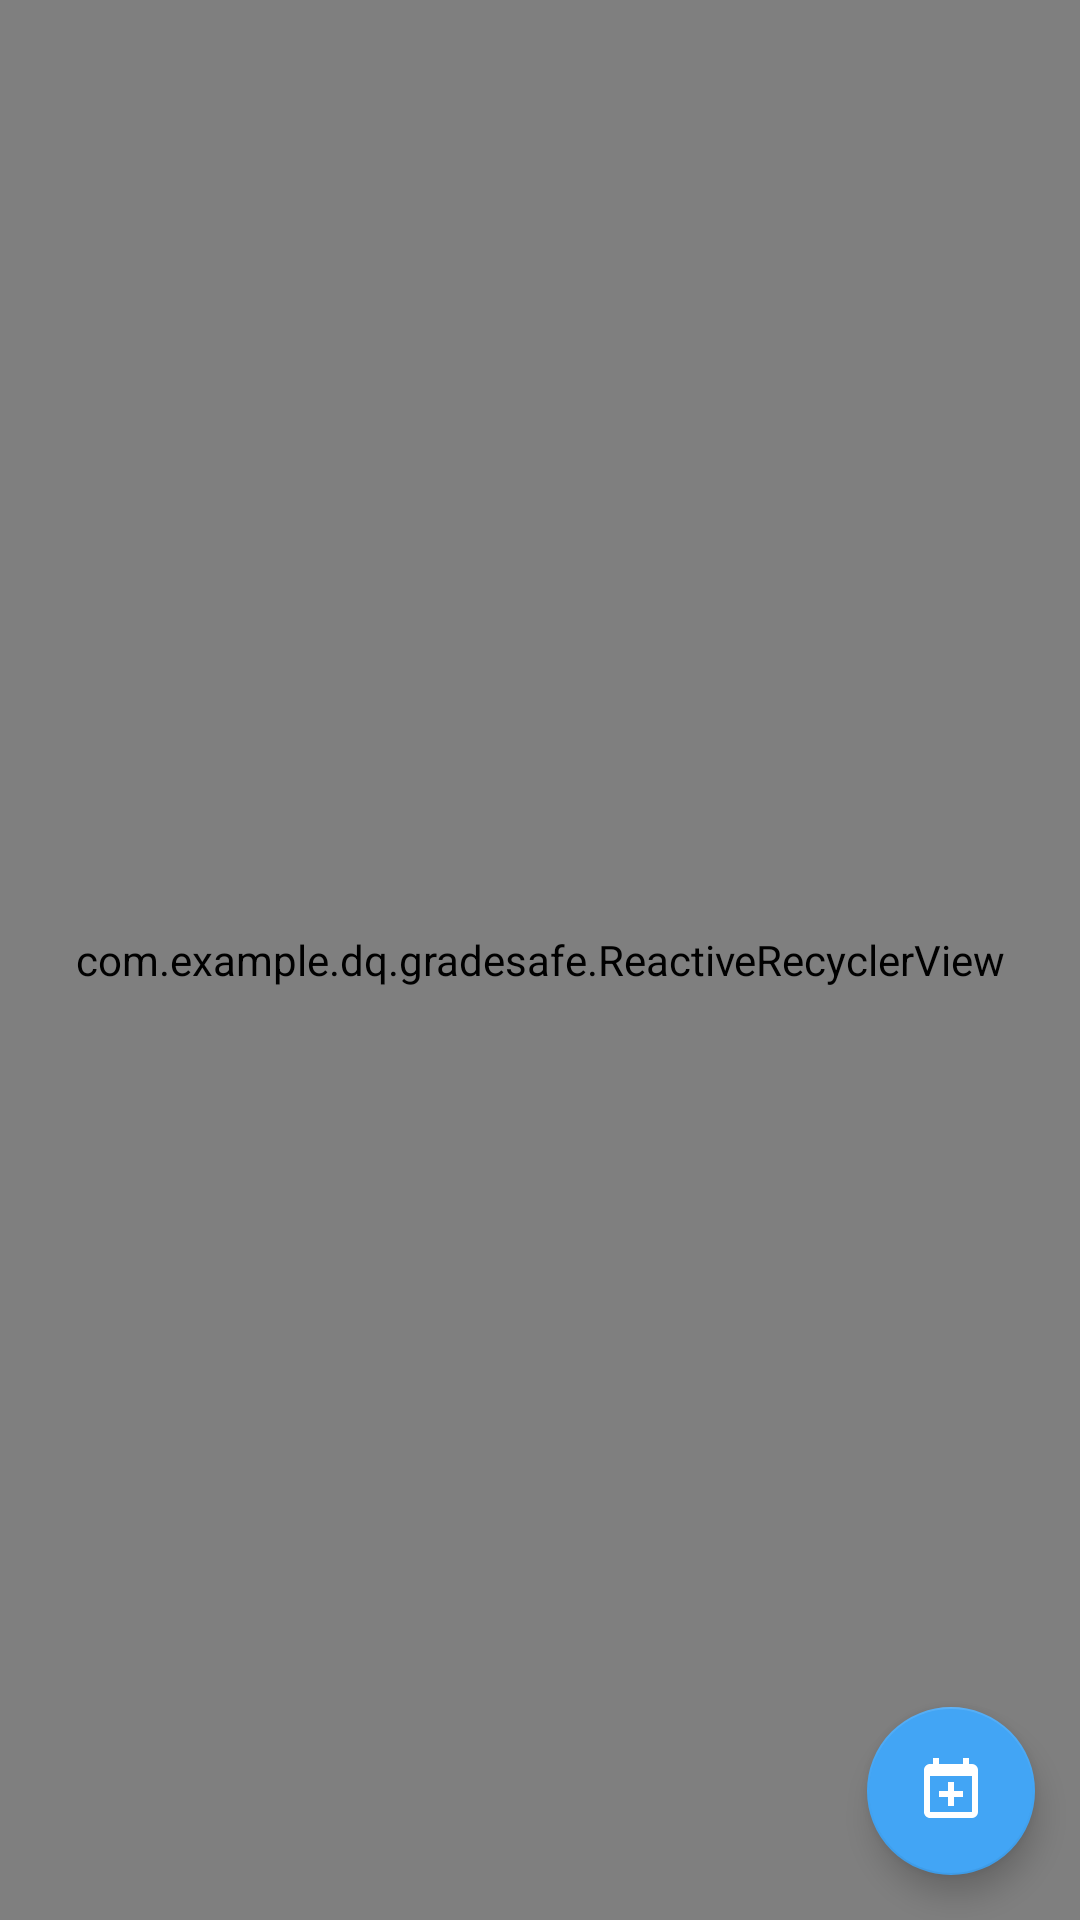

Screen size 1080*1920. Icon name, then its box in pixels as (x1, y1, x2, y2):
calendar plus: (867, 1707, 1035, 1875)
